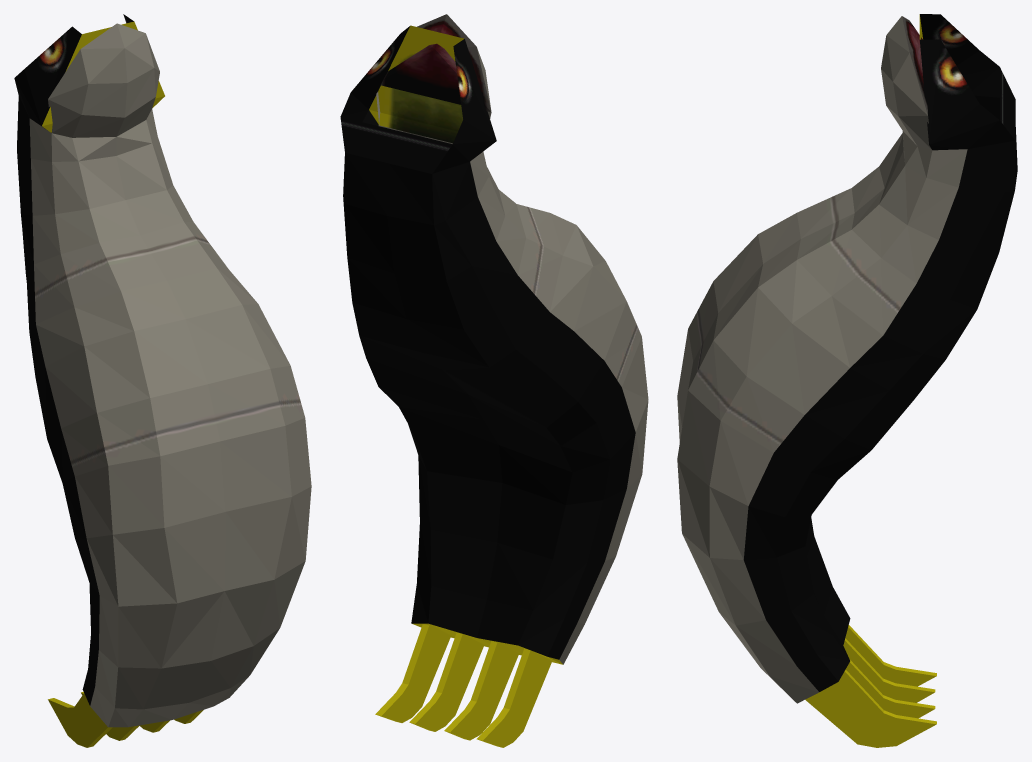
The model's file is BR_Groudon-Shiny01.obj.
3 views of the same model, side by side, from view 1: azimuth 30°, elevation 25°; view 2: azimuth 150°, elevation 25°; view 3: azimuth 270°, elevation 25° (orthographic). The views are drawn at different scales.
Parts seen in each view (by area): view 1: groudon; view 2: groudon; view 3: groudon.
Part boxes in pixels (left/top/right/bottom): groudon: left=14, top=14, right=311, bottom=747; groudon: left=340, top=14, right=648, bottom=747; groudon: left=677, top=14, right=1017, bottom=747.
Bounding box in the file's own units: 18.53 × 58.28 × 25.42.
3 materials, 3 textured.
